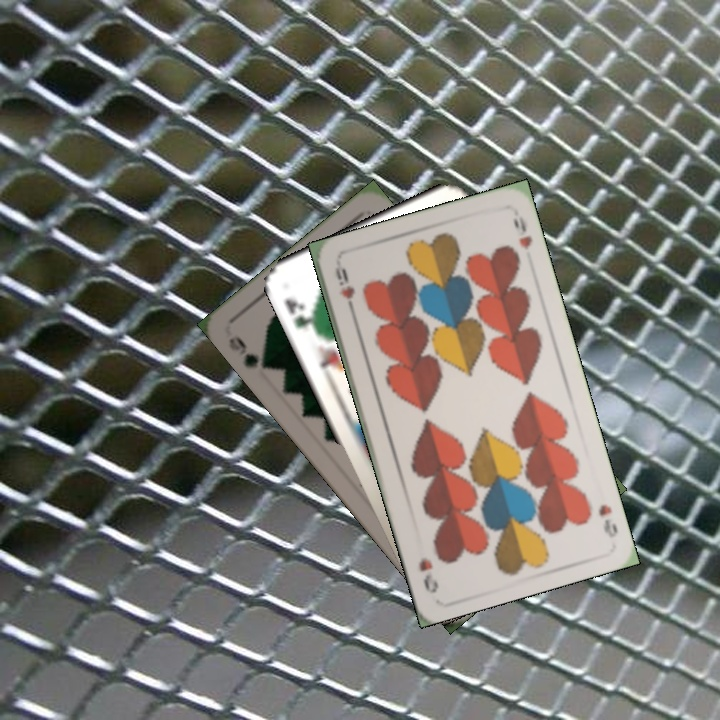G9: (224, 331, 274, 372)
GK: (279, 295, 321, 336)
H9: (331, 260, 359, 318), (594, 500, 621, 540)
